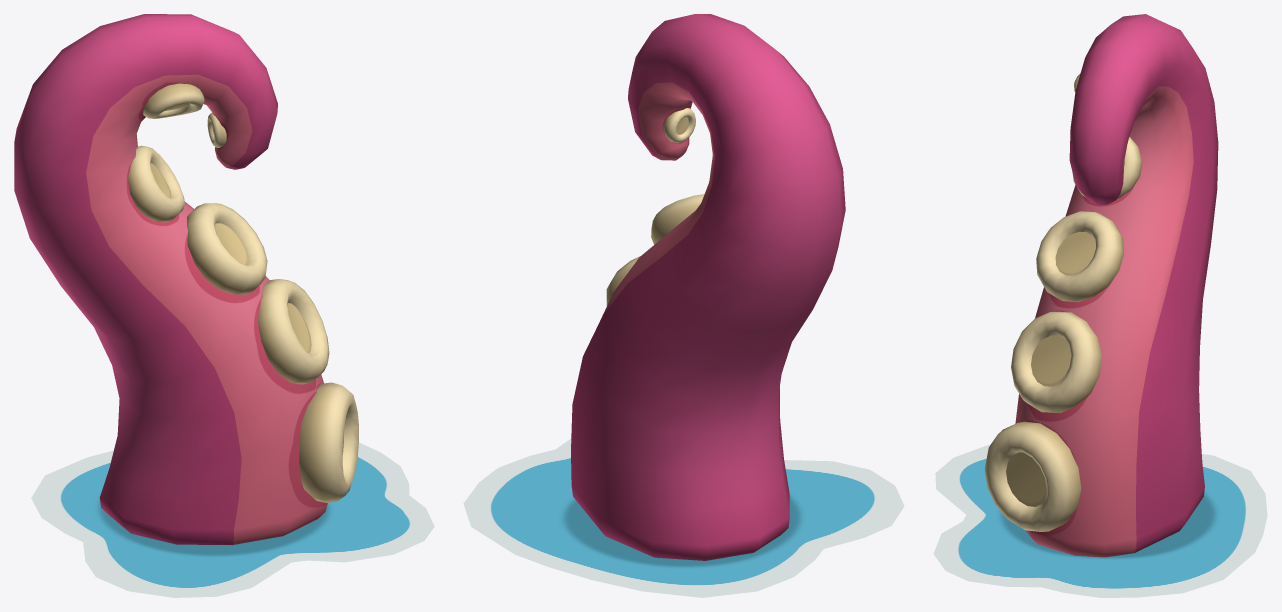
The model's file is Mu_Tentacle.fbx.
3 views of the same model, side by side, from view 1: azimuth 30°, elevation 25°; view 2: azimuth 150°, elevation 25°; view 3: azimuth 270°, elevation 25° (orthographic). The views are drawn at different scales.
Visible parts, largest first — view 1: Mu_Tentacle_a, Mu_Tentacle_b; view 2: Mu_Tentacle_a, Mu_Tentacle_b; view 3: Mu_Tentacle_a, Mu_Tentacle_b.
Boxes of the visible parts, <box> form: Mu_Tentacle_a: <box>14,14,358,545</box>; Mu_Tentacle_b: <box>31,442,434,597</box>; Mu_Tentacle_a: <box>571,14,845,560</box>; Mu_Tentacle_b: <box>463,438,904,597</box>; Mu_Tentacle_a: <box>985,14,1218,557</box>; Mu_Tentacle_b: <box>933,445,1267,597</box>.
Size of the model in its own units: 183 by 246 by 159.
1 material, 1 textured.
